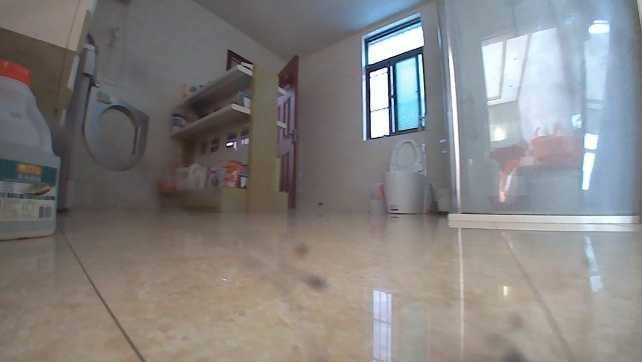toilet: (380, 137, 433, 218)
